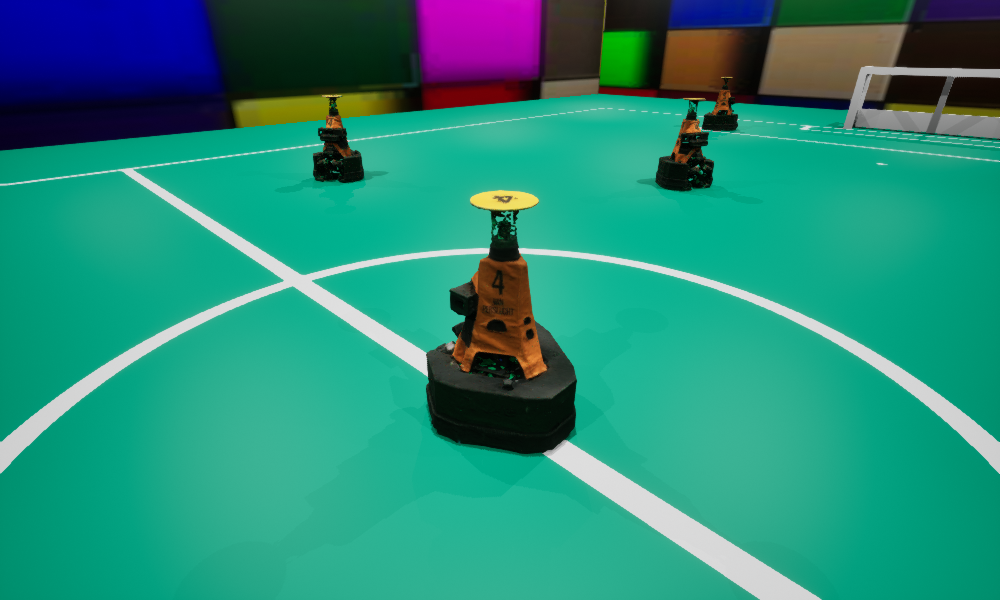0 orange robot TechUnited: (426, 190, 576, 453), (655, 98, 713, 190), (313, 95, 363, 181), (702, 77, 737, 130)
